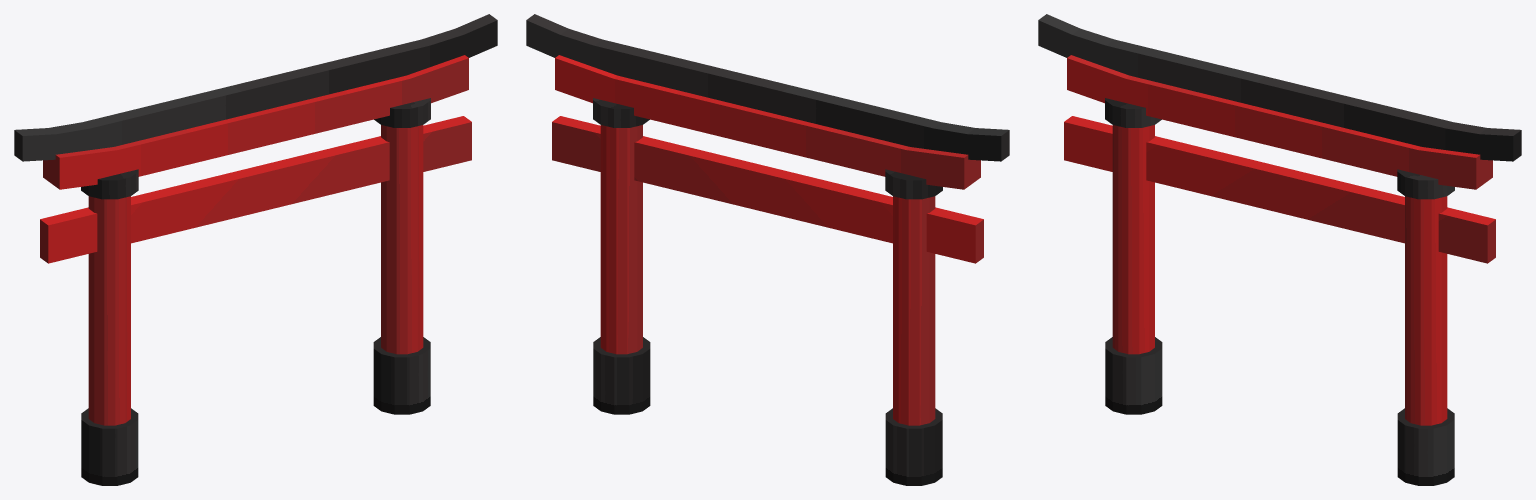
The model's file is JapanToriiGate.fbx.
3 views of the same model, side by side, from view 1: azimuth 30°, elevation 25°; view 2: azimuth 150°, elevation 25°; view 3: azimuth 330°, elevation 25° (orthographic).
Visible parts, largest first — view 1: cuboid, cuboid_2, cuboid_1, cylinder_1, cylinder; view 2: cuboid, cuboid_2, cuboid_1, cylinder_1, cylinder; view 3: cuboid, cuboid_2, cuboid_1, cylinder, cylinder_1.
Boxes of the visible parts, x1=… form: cuboid: x1=40, y1=116, x2=471, y2=263; cuboid_2: x1=14, y1=14, x2=497, y2=161; cuboid_1: x1=43, y1=55, x2=468, y2=189; cylinder_1: x1=81, y1=169, x2=138, y2=485; cylinder: x1=373, y1=98, x2=430, y2=414; cuboid: x1=552, y1=116, x2=983, y2=263; cuboid_2: x1=526, y1=14, x2=1009, y2=161; cuboid_1: x1=555, y1=55, x2=980, y2=189; cylinder_1: x1=885, y1=169, x2=942, y2=485; cylinder: x1=593, y1=98, x2=650, y2=414; cuboid: x1=1064, y1=116, x2=1495, y2=263; cuboid_2: x1=1038, y1=14, x2=1521, y2=161; cuboid_1: x1=1067, y1=55, x2=1492, y2=189; cylinder: x1=1397, y1=169, x2=1454, y2=485; cylinder_1: x1=1105, y1=98, x2=1162, y2=414.
Size of the model in its own units: 81.25 by 59.38 by 8.58.
Materials: 1 (1 with a texture image).
